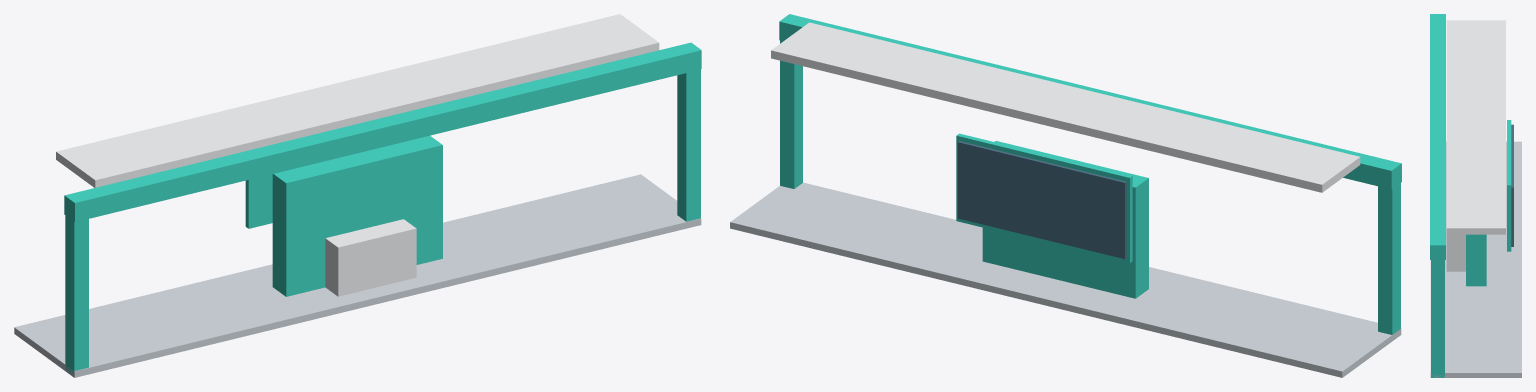
The picture shows the model from 3 angles, left to right: view 1: azimuth 30°, elevation 25°; view 2: azimuth 150°, elevation 25°; view 3: azimuth 270°, elevation 25°; orthographic projection. The views are drawn at different scales.
Visible parts, largest first — view 1: Exhibition Booth Concept; view 2: Exhibition Booth Concept; view 3: Exhibition Booth Concept.
Boxes of the visible parts, bbox=[...] form: Exhibition Booth Concept: bbox=[14, 14, 701, 377]; Exhibition Booth Concept: bbox=[730, 14, 1401, 377]; Exhibition Booth Concept: bbox=[1430, 14, 1521, 377].
Bounding box in the file's own units: 12 × 3.34 × 2.01.
